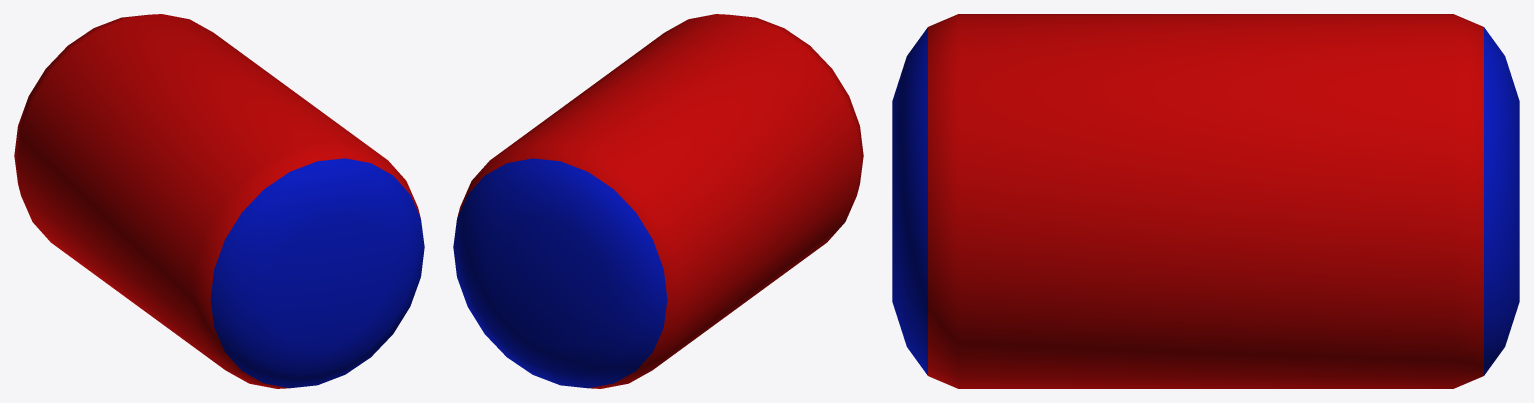
File: Lay-Down-Can.glb
3 views of the same model, side by side, from view 1: azimuth 30°, elevation 25°; view 2: azimuth 150°, elevation 25°; view 3: azimuth 270°, elevation 25° (orthographic). The views are drawn at different scales.
Visible parts, largest first — view 1: Lay-Down-Can; view 2: Lay-Down-Can; view 3: Lay-Down-Can.
Boxes of the visible parts, left/top/right/bottom form: Lay-Down-Can: left=14, top=14, right=424, bottom=388; Lay-Down-Can: left=453, top=14, right=863, bottom=388; Lay-Down-Can: left=892, top=14, right=1519, bottom=388.
Bounding box in the file's own units: 1.25 × 1.25 × 2.08.
